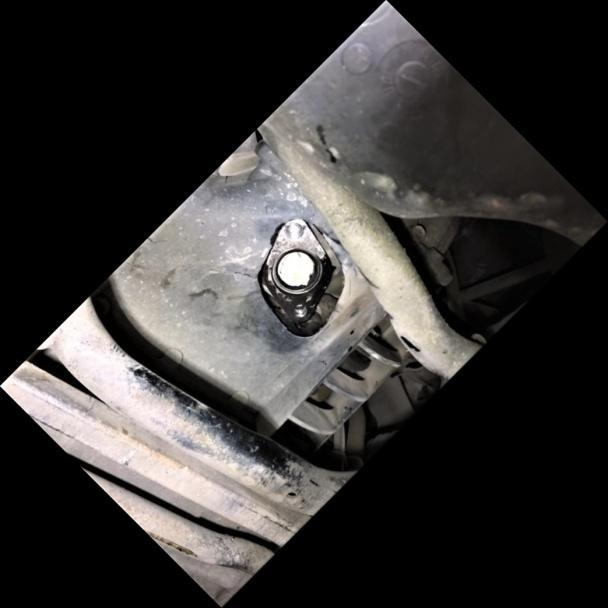hole: (280, 214, 310, 244), (287, 299, 311, 321)
